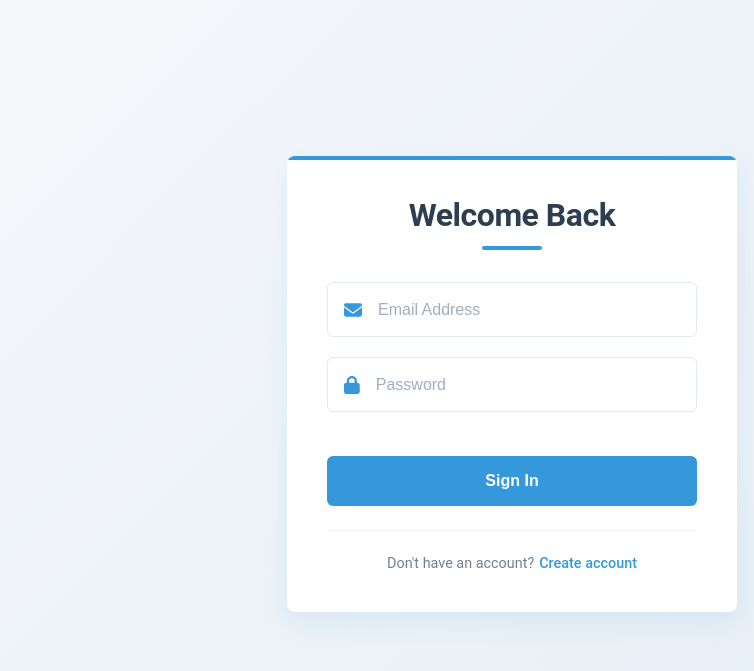
Login Component › handles failed login attempt
Note: Fill in the form
Type "wrong@example.com" into the field with placeholder "Email Address" at (537,310), box [378,283,696,336]
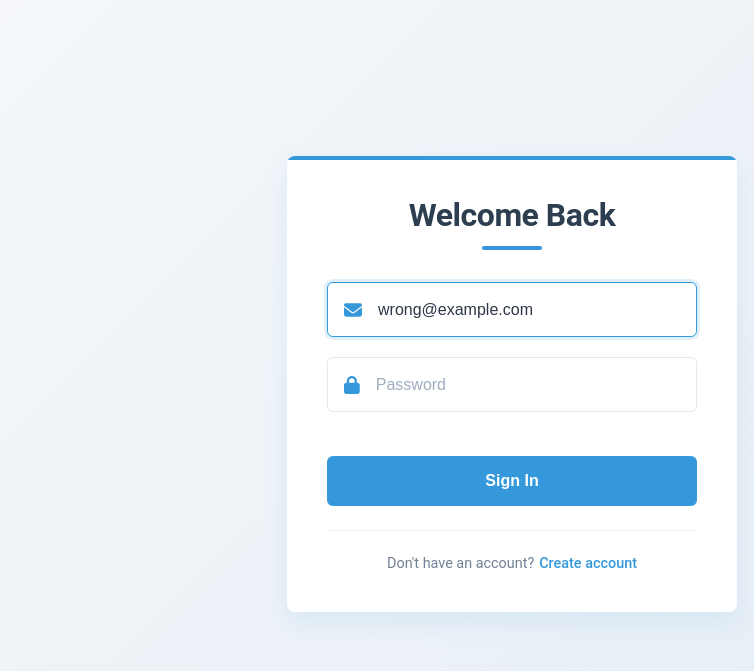
Type "wrongpass" into the password field with placeholder "Password" at (536,384), box [376,358,696,411]
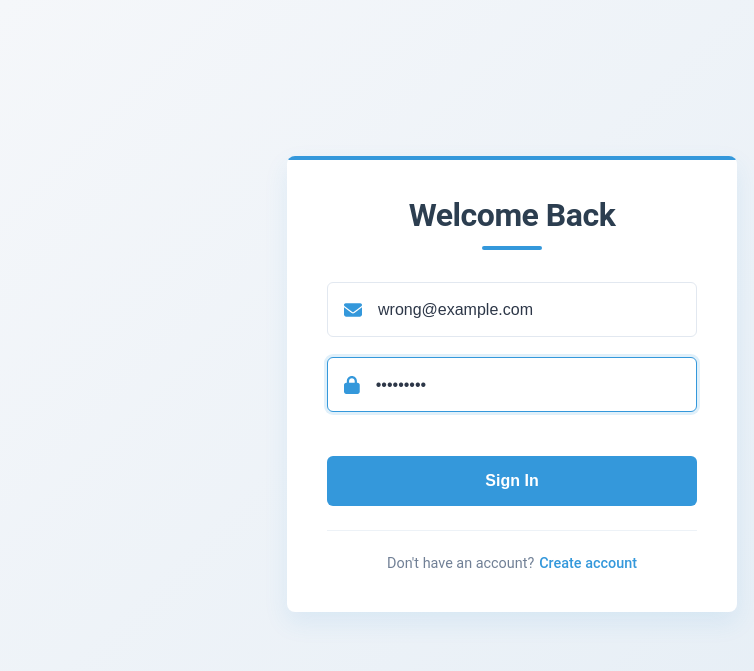
Note: Submit form
Click the button "Sign In" at (512,481), box [327,456,697,506]
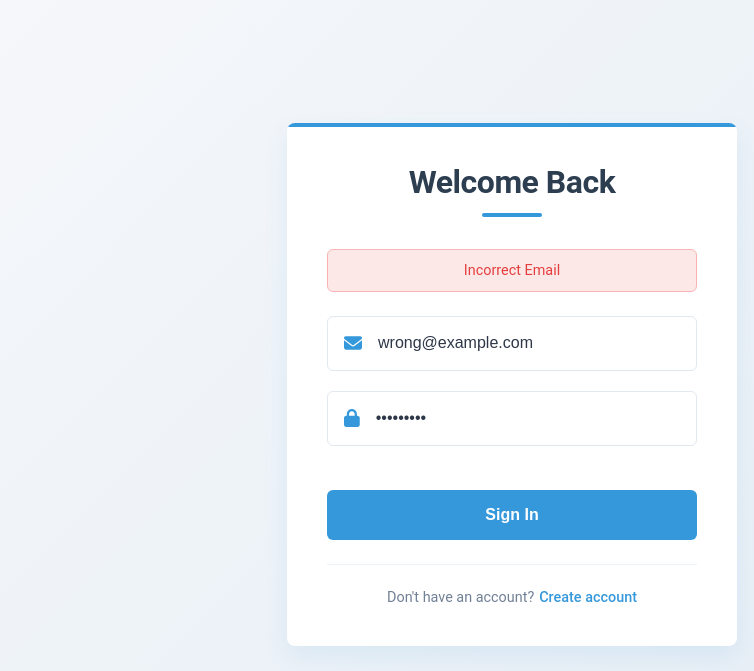
Expected: the text "Incorrect Email" is shown, [327,248,697,292]
